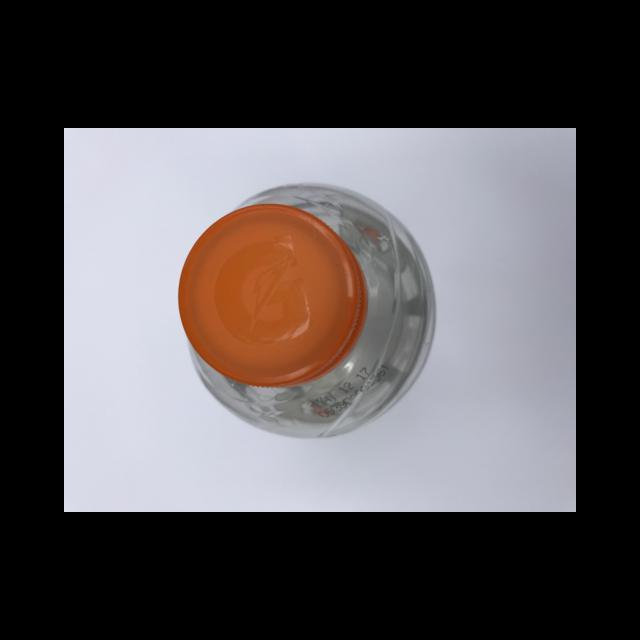plastic: (178, 183, 435, 437), (176, 203, 369, 388)
